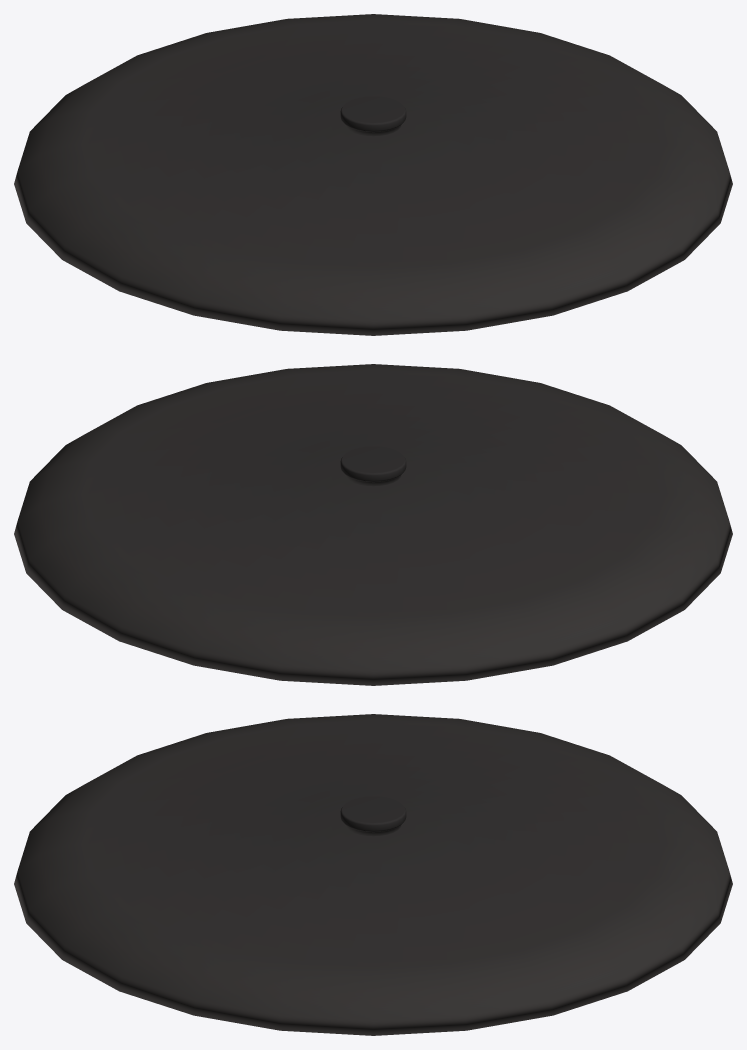
The model's file is Flat Pan Lid.fbx.
The picture shows the model from 3 angles, top to bottom: view 1: azimuth 30°, elevation 25°; view 2: azimuth 150°, elevation 25°; view 3: azimuth 270°, elevation 25°; orthographic projection.
Parts seen in each view (by area): view 1: Flat Pan Lid; view 2: Flat Pan Lid; view 3: Flat Pan Lid.
Part boxes in pixels (x1,y1,x2,y2): Flat Pan Lid: (14, 14, 732, 335); Flat Pan Lid: (14, 364, 732, 685); Flat Pan Lid: (14, 714, 732, 1035).
Size of the model in its own units: 349 by 40.01 by 349.
